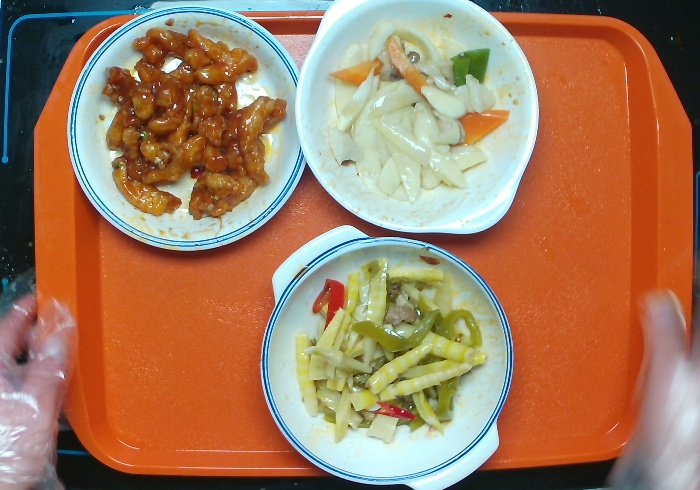HZYJPL-Dai_Er_Bai_Yuan_Wan: (291, 1, 541, 234)
HZYJPL-Lan_Bian_Dai_Er_Wan: (261, 223, 519, 490)
HZYJPL-Lan_Bian_Yuan_Die: (65, 4, 311, 251)
